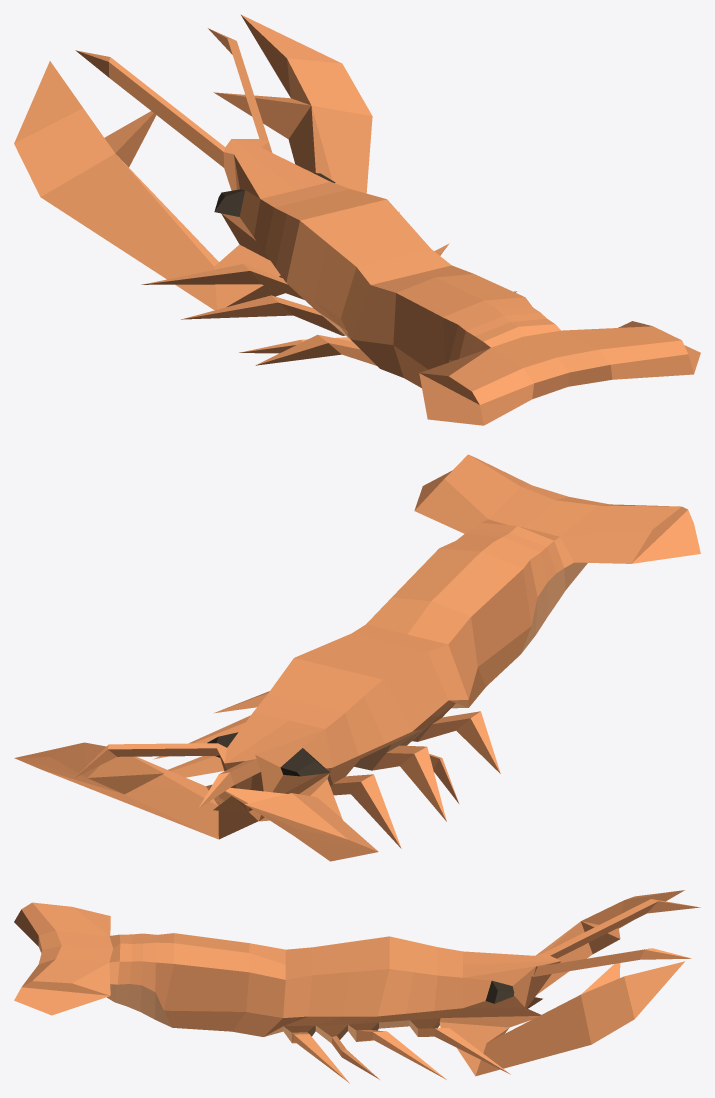
The model's file is CrayfishCooked.glb.
3 views of the same model, one above another, from view 1: azimuth 30°, elevation 25°; view 2: azimuth 150°, elevation 25°; view 3: azimuth 270°, elevation 25° (orthographic). The views are drawn at different scales.
Parts seen in each view (by area): view 1: EXPORT_cooked_crayfish; view 2: EXPORT_cooked_crayfish; view 3: EXPORT_cooked_crayfish.
Part boxes in pixels (x1=…): EXPORT_cooked_crayfish: x1=14, y1=14, x2=700, y2=425; EXPORT_cooked_crayfish: x1=14, y1=454, x2=700, y2=861; EXPORT_cooked_crayfish: x1=14, y1=890, x2=700, y2=1083.
Bounding box in the file's own units: 0.2315 × 0.1144 × 0.5409.
